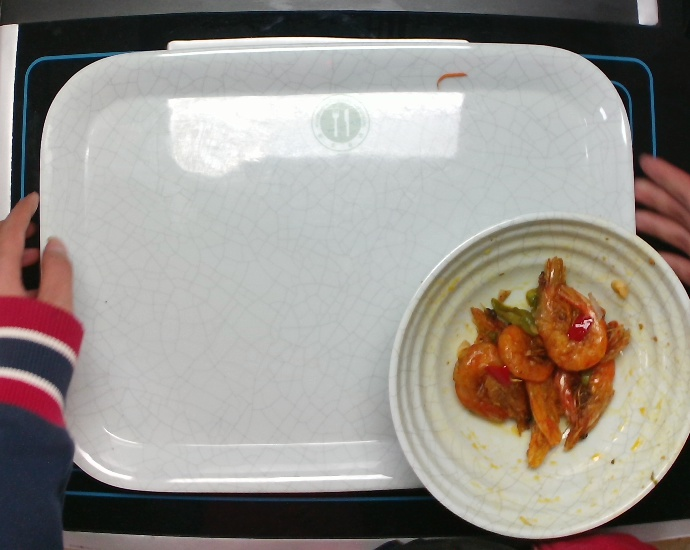JYsf-Da_Tang_Wan: (386, 210, 690, 542)
